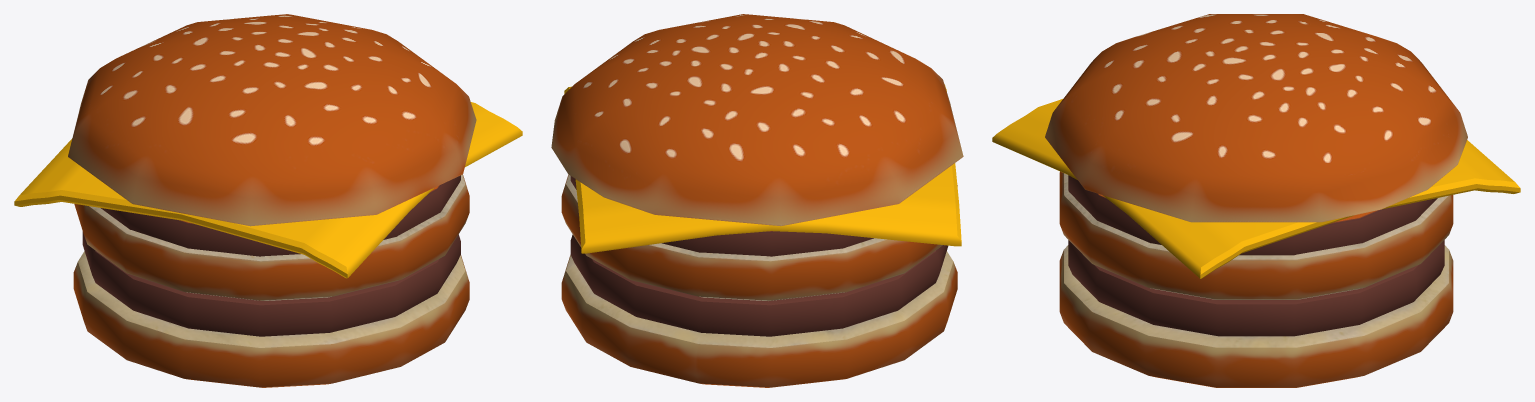
Rendered from hamburguer.glb.
3 views of the same model, side by side, from view 1: azimuth 30°, elevation 25°; view 2: azimuth 150°, elevation 25°; view 3: azimuth 270°, elevation 25° (orthographic).
Parts seen in each view (by area): view 1: Object_2; view 2: Object_2; view 3: Object_2.
Part boxes in pixels (left/top/right/bottom): Object_2: left=14, top=14, right=522, bottom=387; Object_2: left=551, top=14, right=963, bottom=387; Object_2: left=992, top=14, right=1520, bottom=387.
Size of the model in its own units: 14.79 by 8.14 by 14.75.
1 material, 1 textured.
